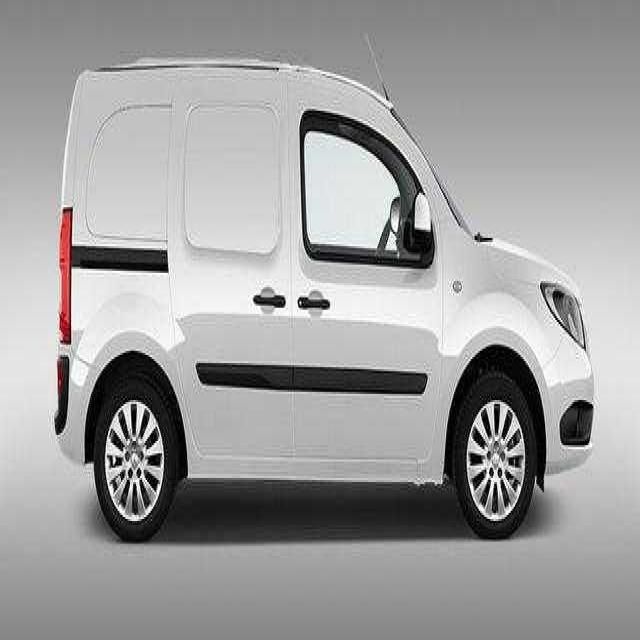Van: (47, 45, 598, 554)
